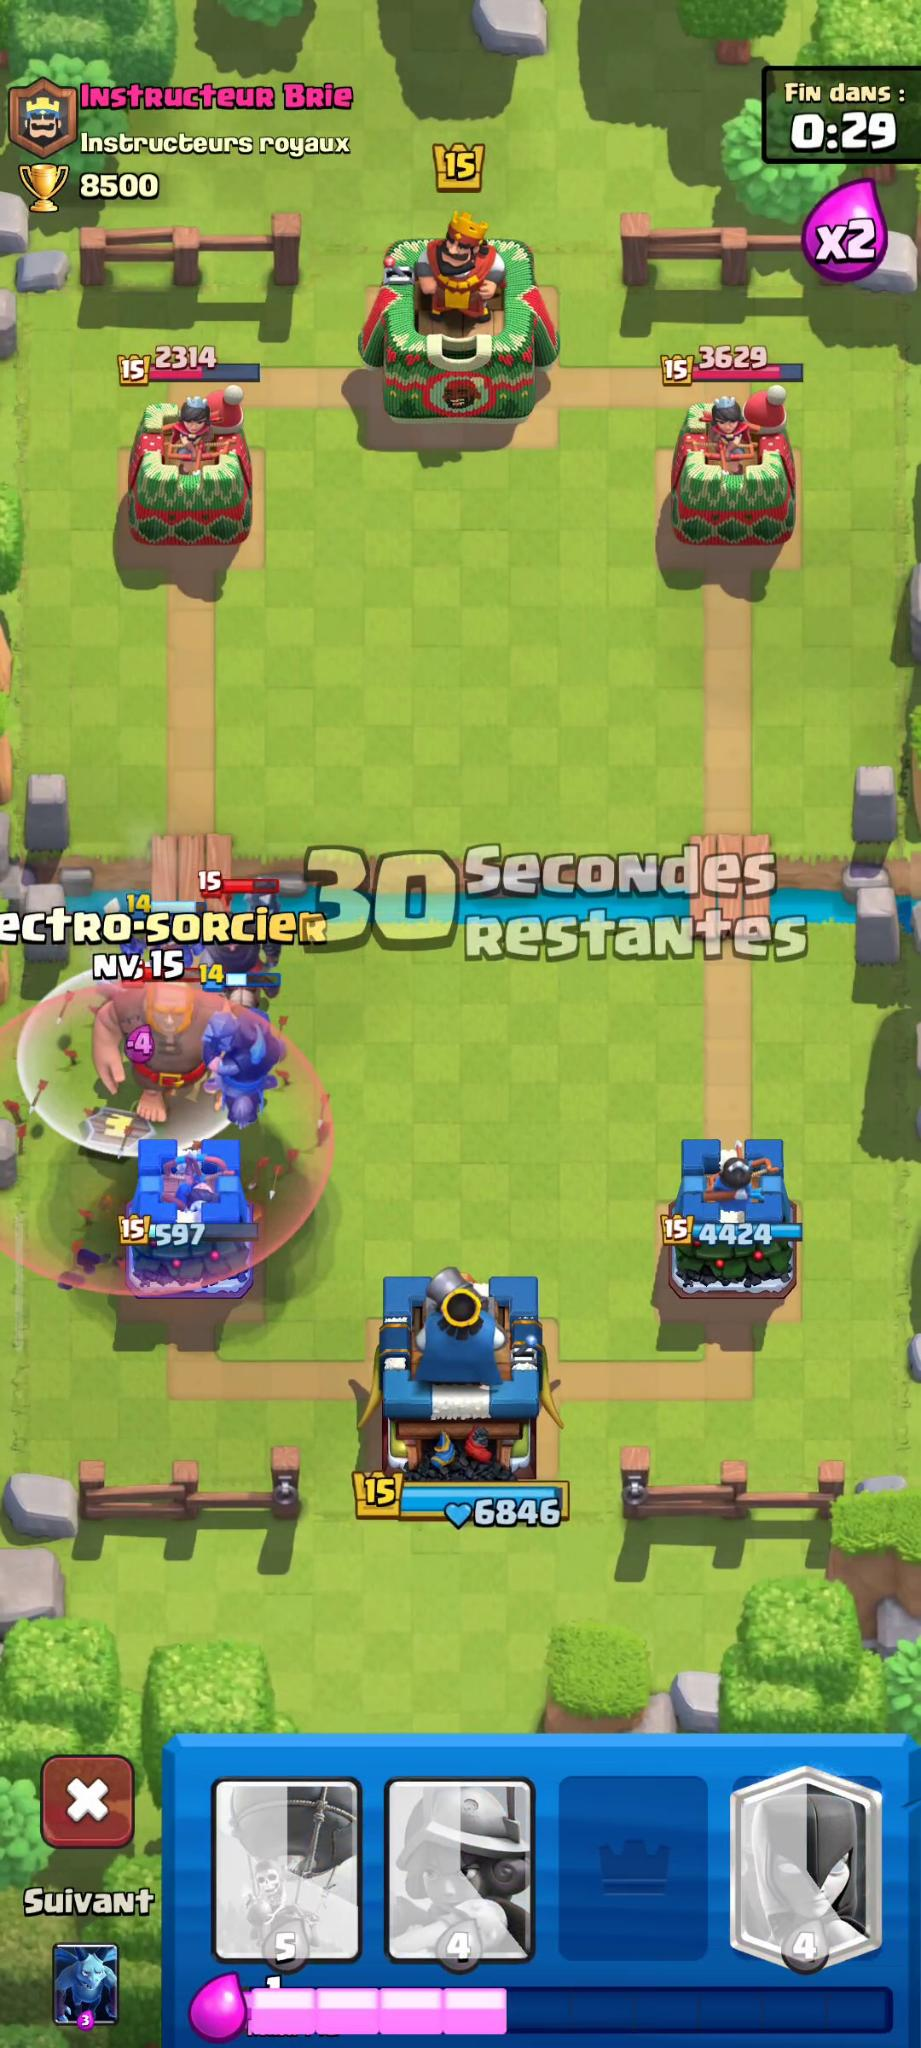geant: (86, 955, 234, 1123)
